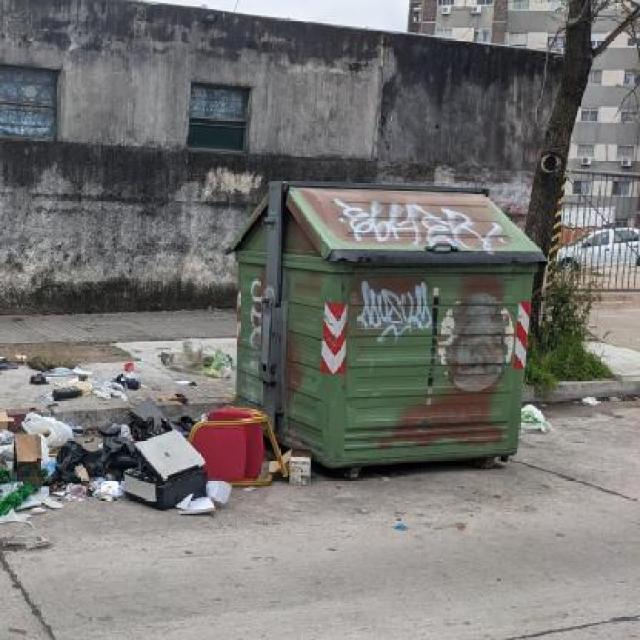garbage: (0, 335, 324, 514), (515, 393, 538, 443)
